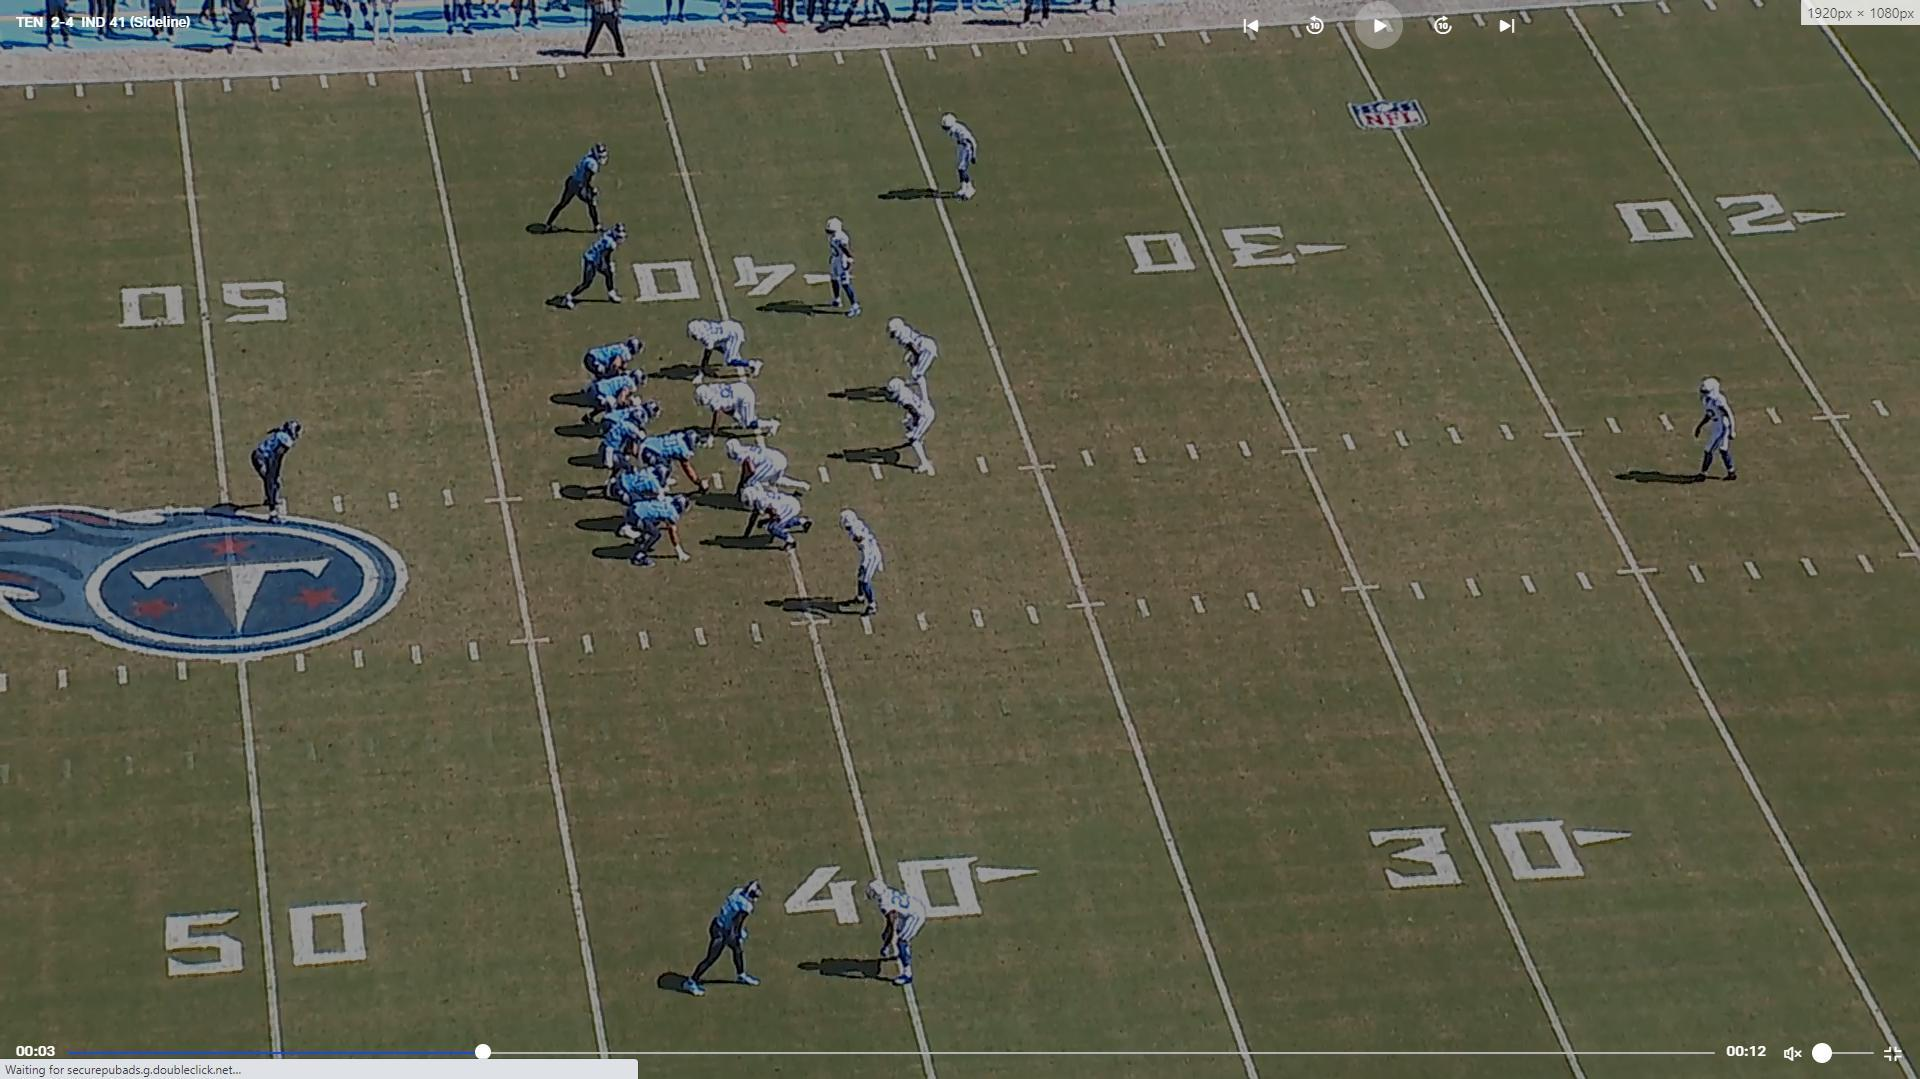defense: (861, 877, 923, 991), (837, 505, 890, 624), (692, 380, 782, 447), (886, 376, 940, 478), (688, 313, 766, 383), (1691, 375, 1739, 483), (738, 485, 811, 557), (820, 212, 868, 321), (885, 315, 938, 398), (717, 439, 791, 497), (939, 109, 984, 203)
oline: (621, 492, 694, 571), (615, 460, 678, 537), (641, 427, 707, 497), (589, 367, 650, 423), (601, 394, 661, 445)
qb: (600, 409, 654, 488)
ref: (582, 0, 636, 66)
skill: (683, 877, 777, 1000), (537, 140, 609, 236), (562, 223, 632, 311), (255, 417, 310, 520), (583, 336, 647, 379)
